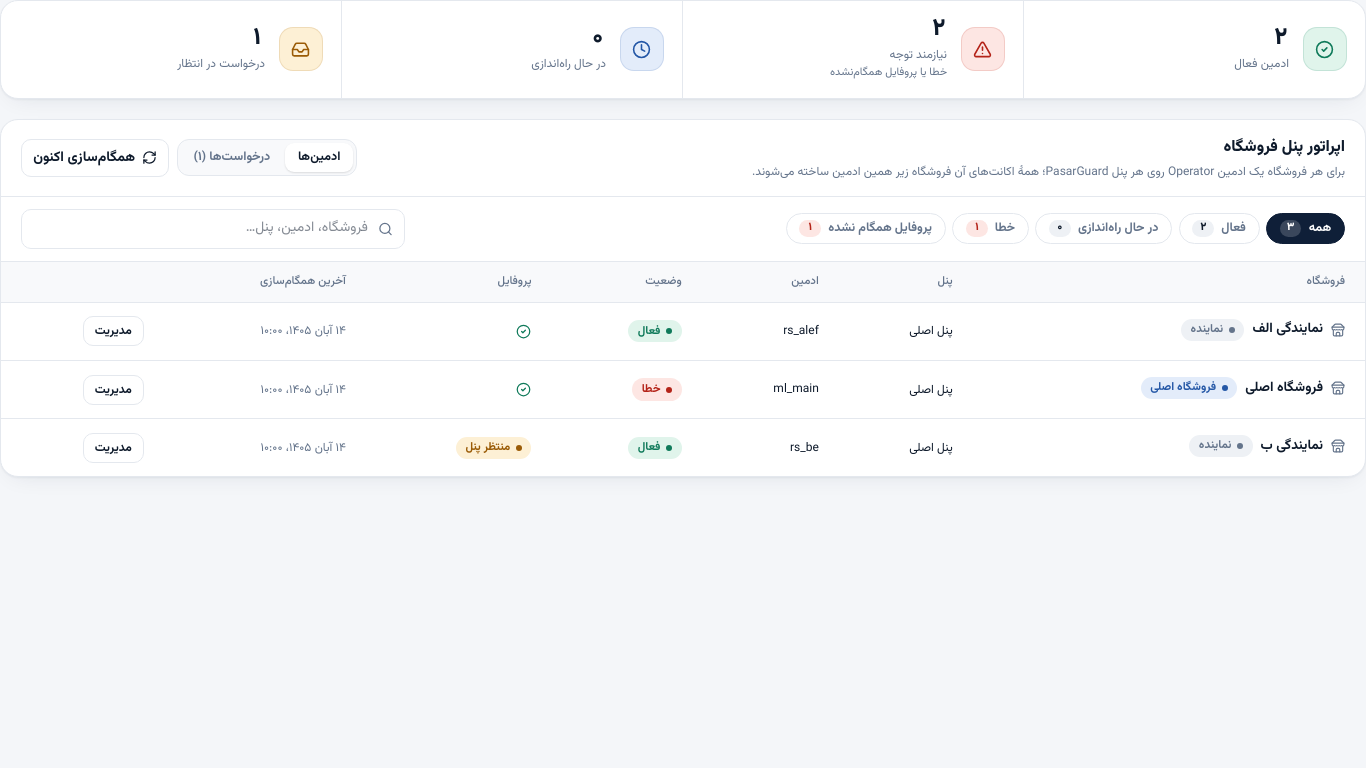
Scenario: admin: PasarGuard admins of every store › shows the password only after a confirmation, and a reset replaces it
Expected: the text "rs_alef" is shown, [783,322,819,340]
Step 1. Click the button "مدیریت" in the row of "نمایندگی الف" → (113, 331), box [82,316,144,346]
(page scrolled)
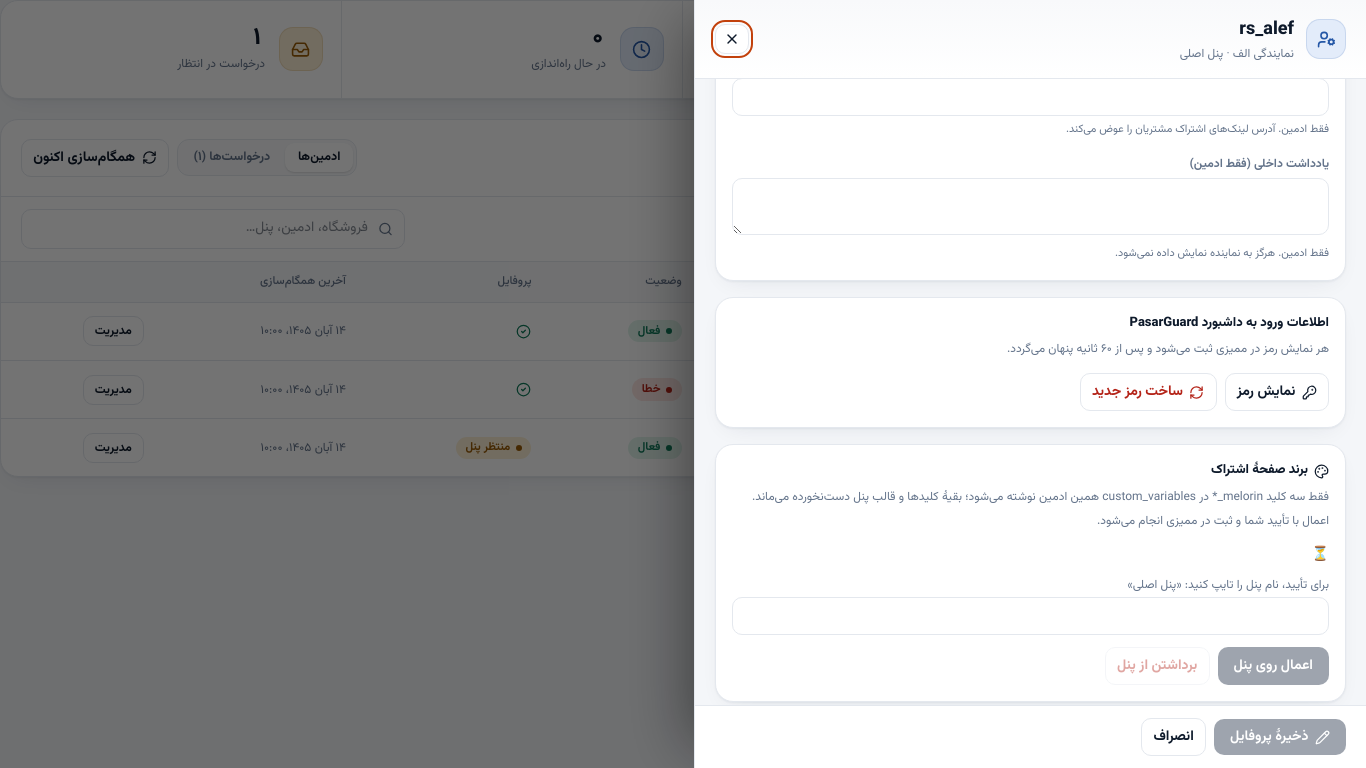
Step 2. Click the button "نمایش رمز" → (1277, 392), box [1225,373,1329,411]
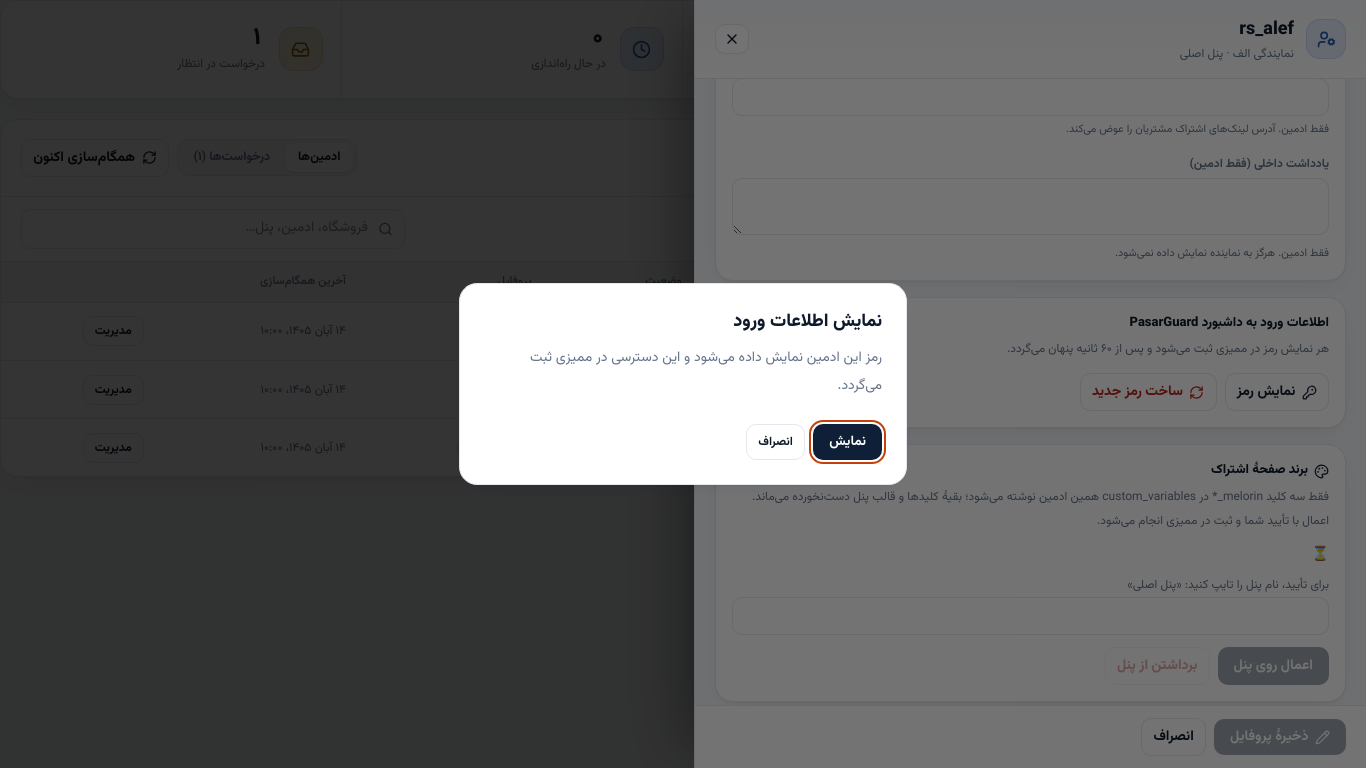
Step 3. Click the button "نمایش" → (848, 442), box [813,424,882,460]
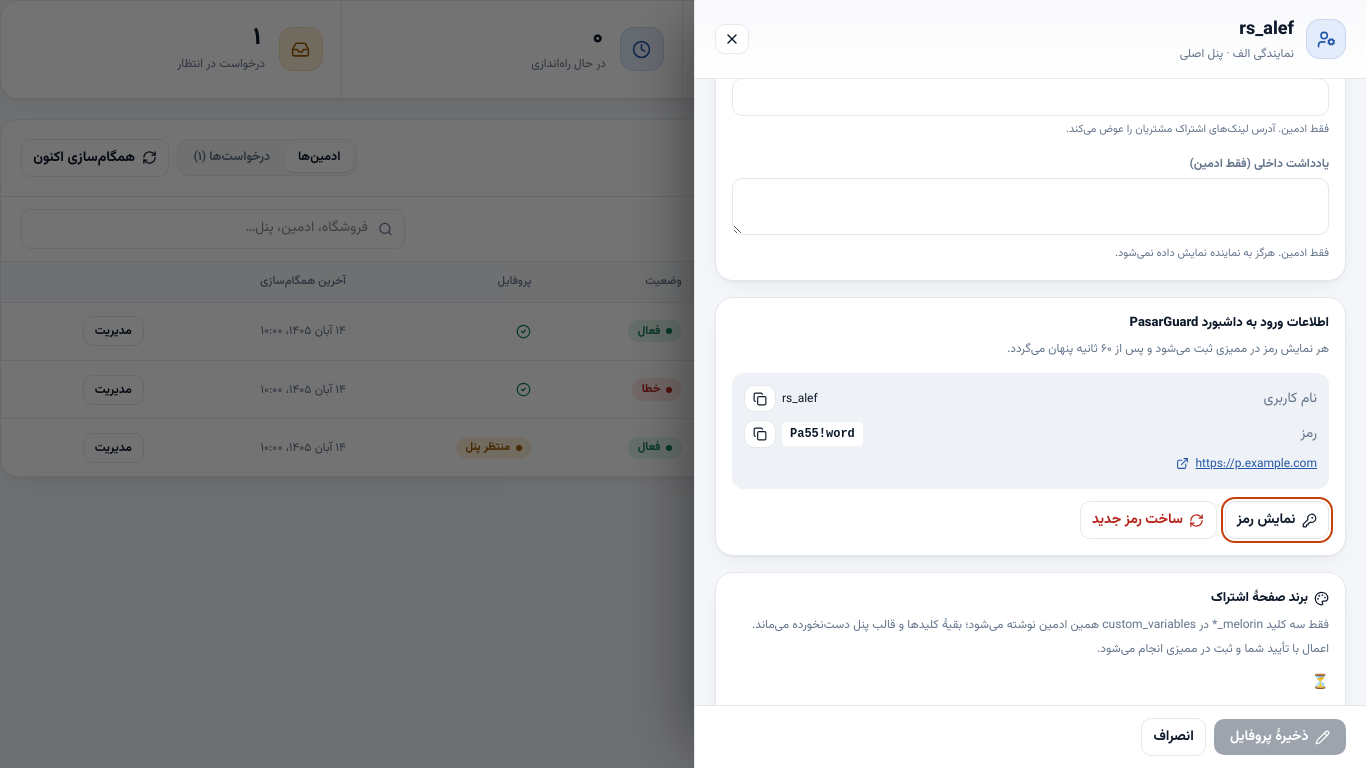
Expected: the text with test id "admin-password" reads "Pa55!word", [790,427,855,441]
Step 4. Click the button "ساخت رمز جدید" → (1148, 520), box [1080,501,1217,539]
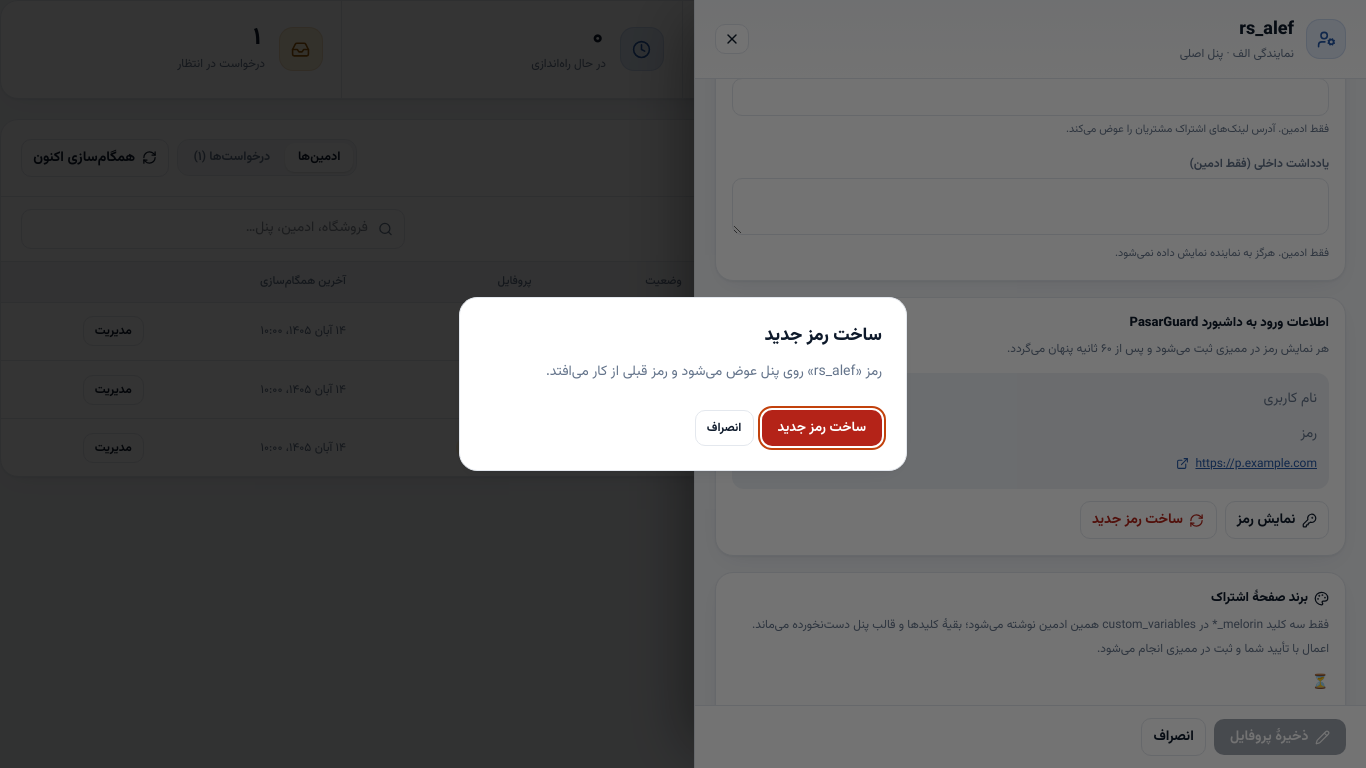
Step 5. Click the button "ساخت رمز جدید" → (822, 428), box [762,410,882,446]
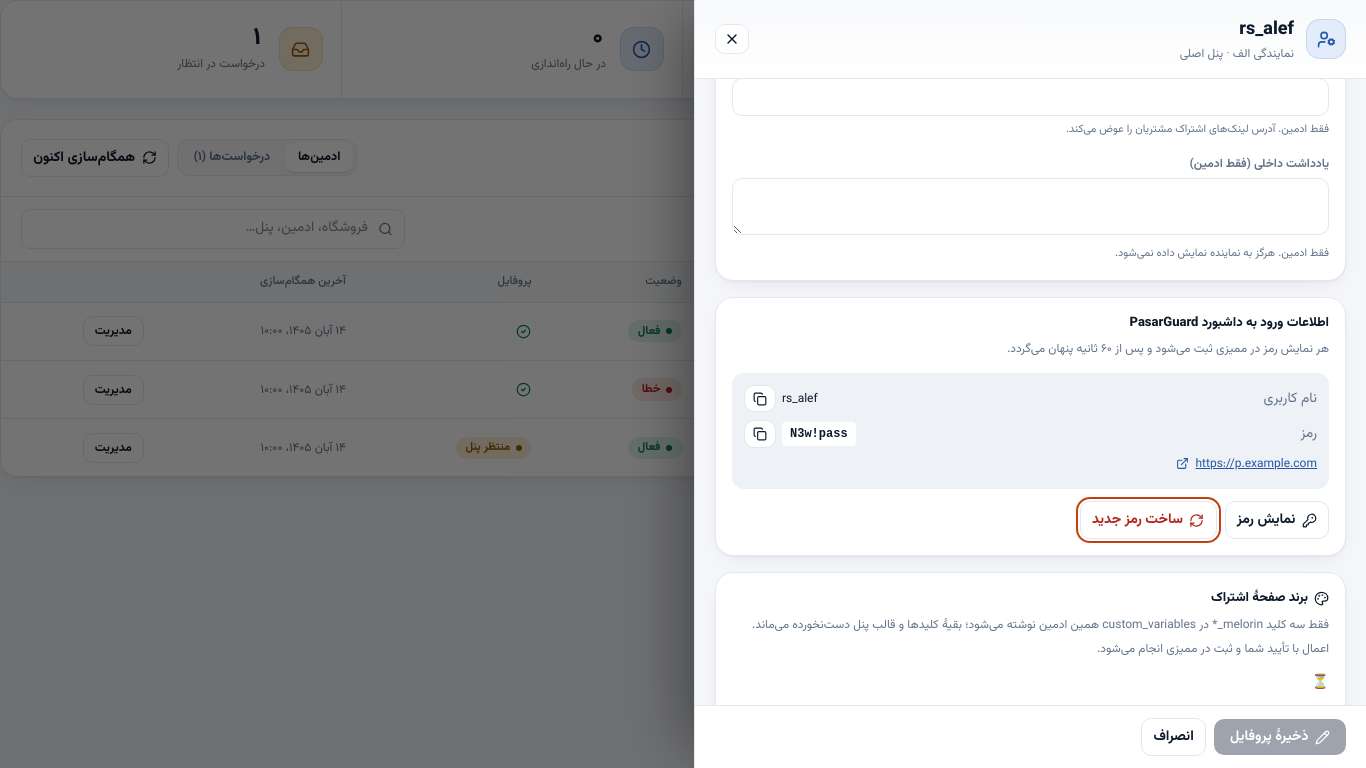
Expected: the text with test id "admin-password" reads "N3w!pass", [790,427,848,441]
Expected: the text "Pa55!word" is gone
